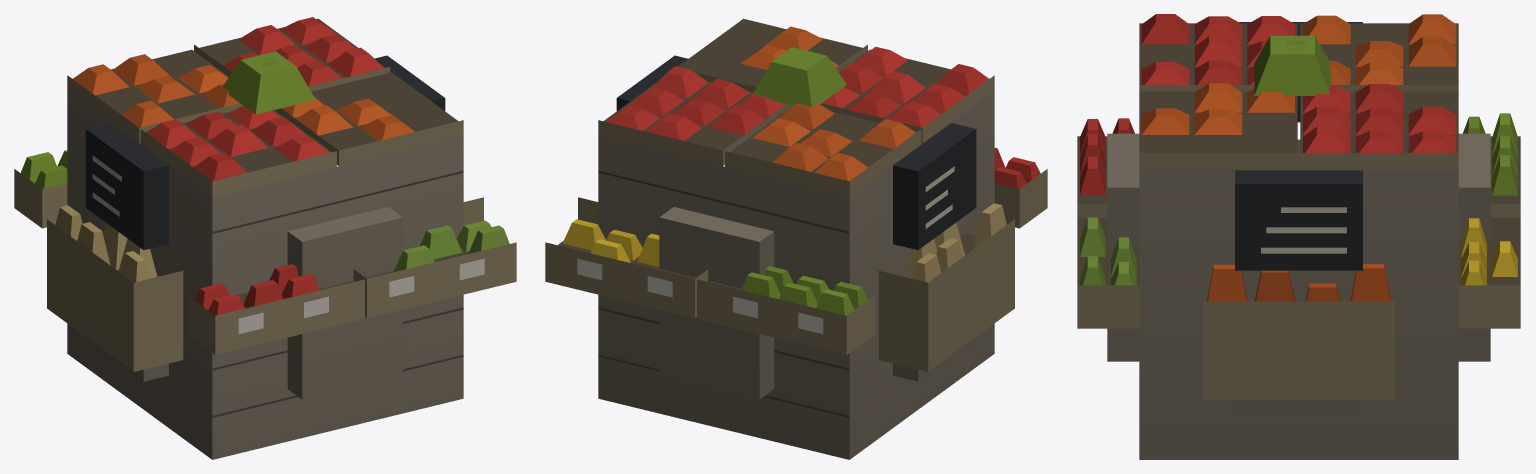
Rendered from shop.produce_stand.sparse.glb.
3 renders of one model, left to right at view 1: azimuth 30°, elevation 25°; view 2: azimuth 150°, elevation 25°; view 3: azimuth 270°, elevation 25°, orthographic. The views are drawn at different scales.
Visible parts, largest first — view 1: shop_produce_stand_sparse; view 2: shop_produce_stand_sparse; view 3: shop_produce_stand_sparse.
Boxes of the visible parts, box(x1,y1,x2,y2) form: shop_produce_stand_sparse: box(14, 17, 516, 459); shop_produce_stand_sparse: box(545, 18, 1047, 459); shop_produce_stand_sparse: box(1077, 14, 1520, 459).
Size of what is drawn, in the model's own units: 1.39 by 1.2 by 1.39.
